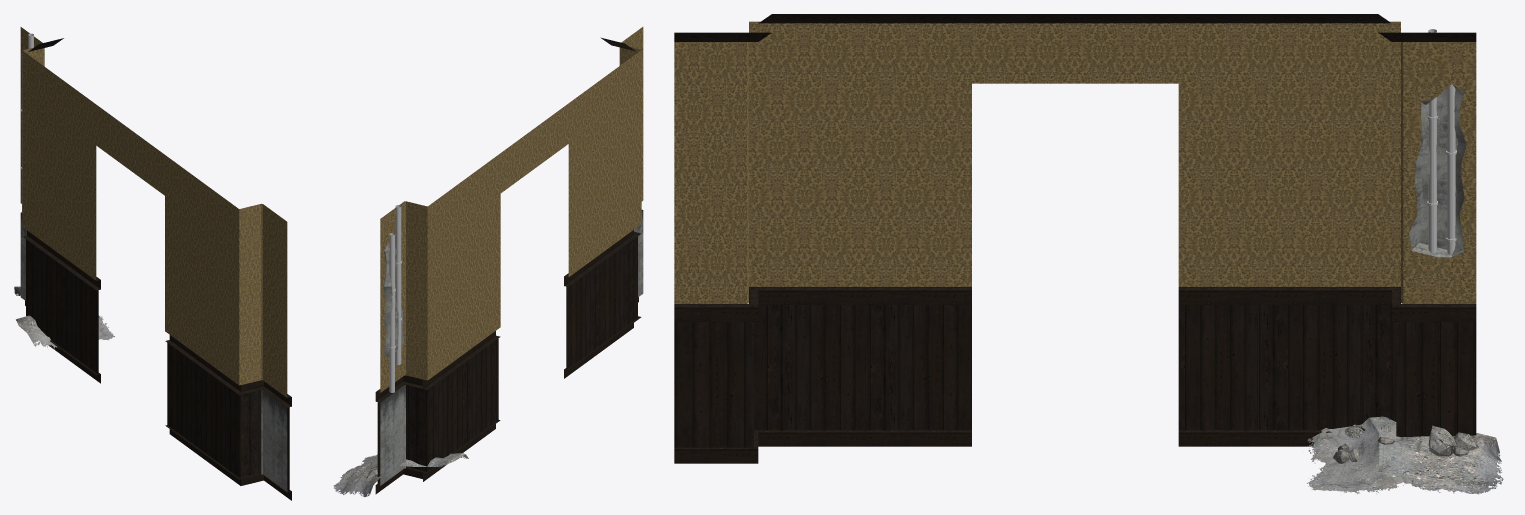
The model's file is #LVL_Wall_DoorB01.fbx.
The picture shows the model from 3 angles, left to right: view 1: azimuth 30°, elevation 25°; view 2: azimuth 150°, elevation 25°; view 3: azimuth 270°, elevation 25°; orthographic projection. The views are drawn at different scales.
Visible parts, largest first — view 1: Cube_011; view 2: Cube_011; view 3: Cube_011.
Boxes of the visible parts, box(x1,y1,x2,y2) form: Cube_011: box(14, 27, 291, 500); Cube_011: box(333, 27, 643, 496); Cube_011: box(674, 14, 1503, 494).
Size of the model in its own units: 4.14 by 12.02 by 20.86.
